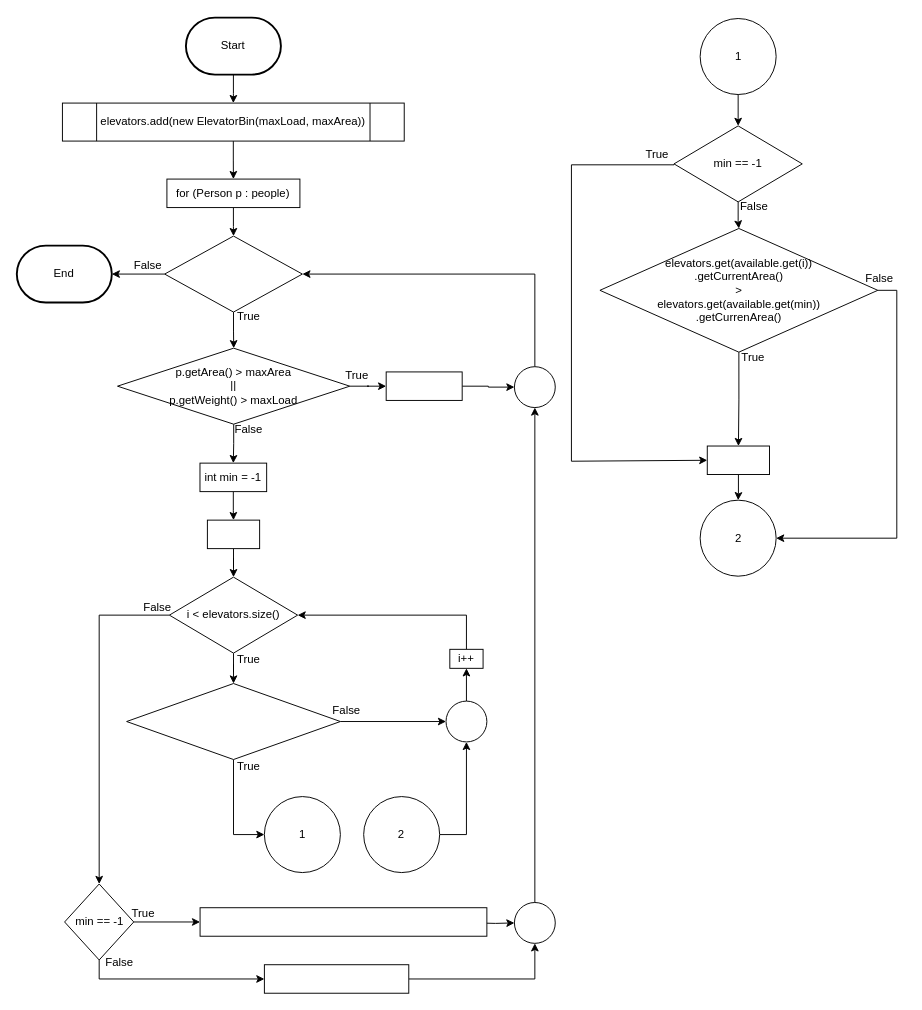
Image size: 922x1010. Some labels were removed from this diagram. Here are the shapes that lost their labels. From the top down, the box of each, then its label:
(164, 235, 302, 312): more person in people
(385, 371, 462, 400): cannotFit++
(706, 445, 770, 475): min = i
(206, 519, 260, 549): int i = 0
(126, 683, 340, 760): elevators.get(i).canHandle(p)
(199, 907, 487, 936): elevators.add(new ElevatorBin(maxLoad, maxArea, p))
(263, 964, 409, 993): elevators.get(min).push(p)
